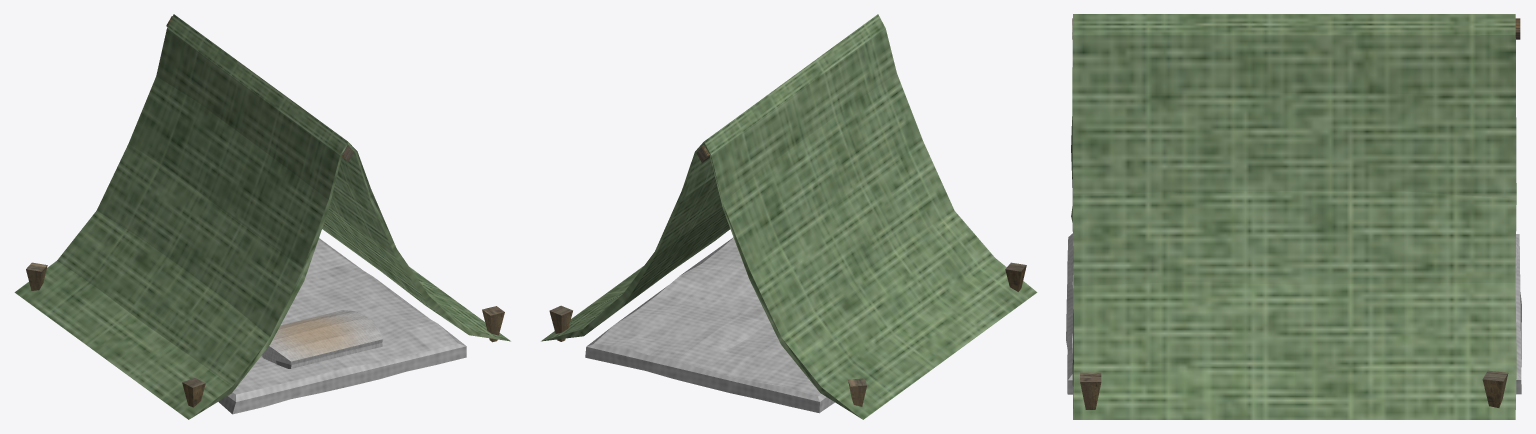
File: prop_tent.fbx
3 views of the same model, side by side, from view 1: azimuth 30°, elevation 25°; view 2: azimuth 150°, elevation 25°; view 3: azimuth 270°, elevation 25° (orthographic). The views are drawn at different scales.
Parts seen in each view (by area): view 1: prop_tent; view 2: prop_tent; view 3: prop_tent.
Boxes of the visible parts, x1=… form: prop_tent: x1=14, y1=14, x2=510, y2=419; prop_tent: x1=541, y1=14, x2=1037, y2=419; prop_tent: x1=1066, y1=14, x2=1521, y2=419.
Bounding box in the file's own units: 5669 × 4074 × 5458.
1 material, 1 textured.
